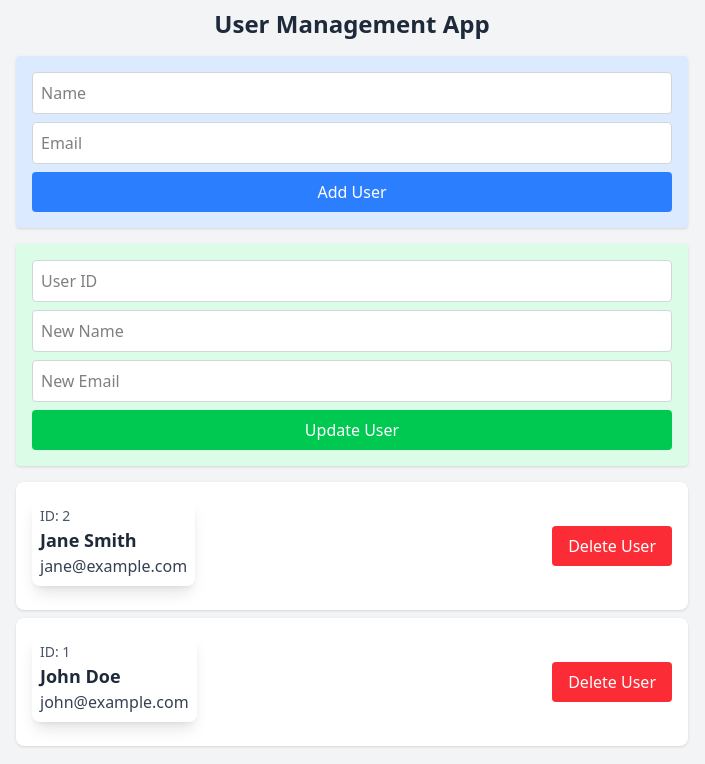
Scenario: Home Component › Updating Users › should update an existing user
expect the text "John Doe" is shown: met, box [40,664,120,688]
Type "1" into the field with placeholder "User ID".
click(352, 281); type("1")  # box [32,260,672,302]
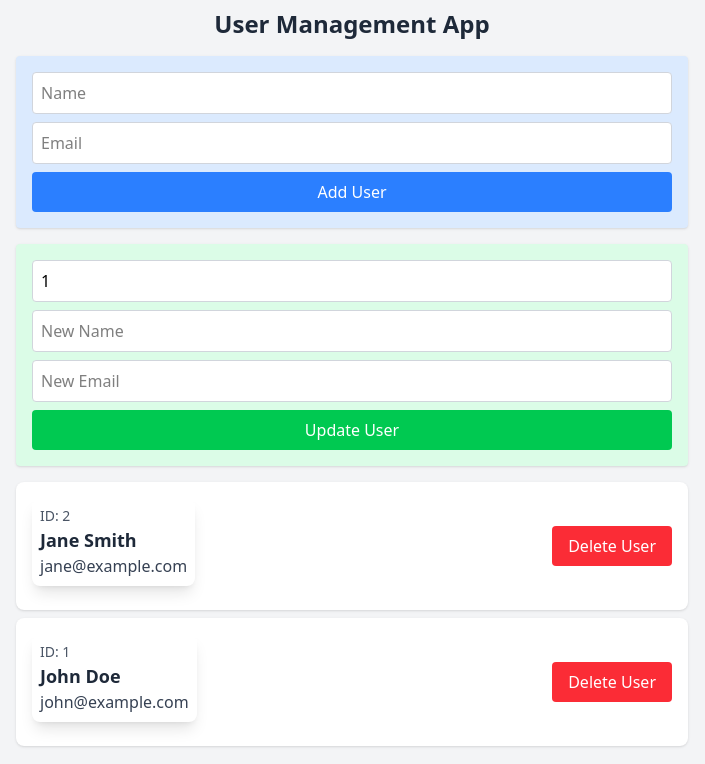
Type "Updated Name" into the field with placeholder "New Name".
click(352, 331); type("Updated Name")  # box [32,310,672,352]
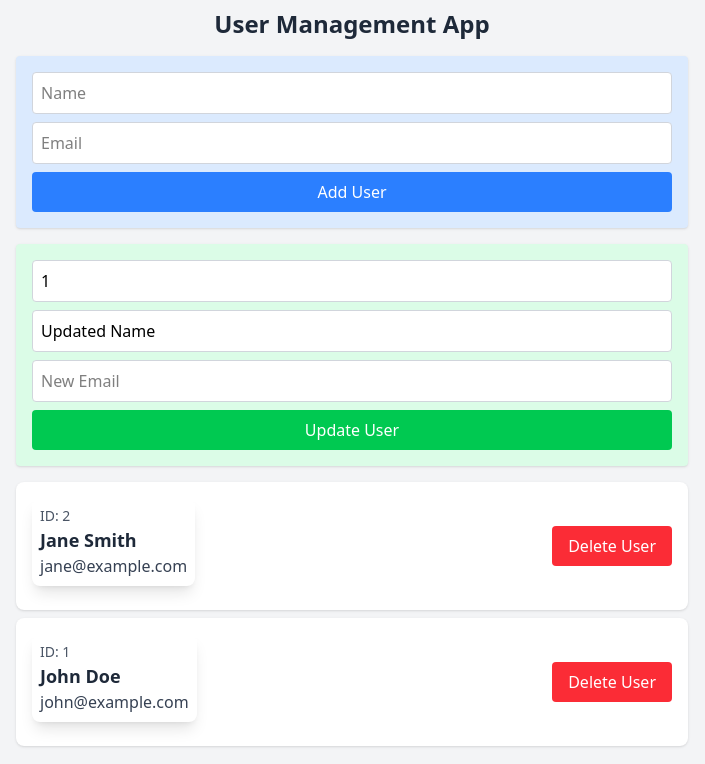
Type "updated@example.com" into the field with placeholder "New Email".
click(352, 381); type("updated@example.com")  # box [32,360,672,402]
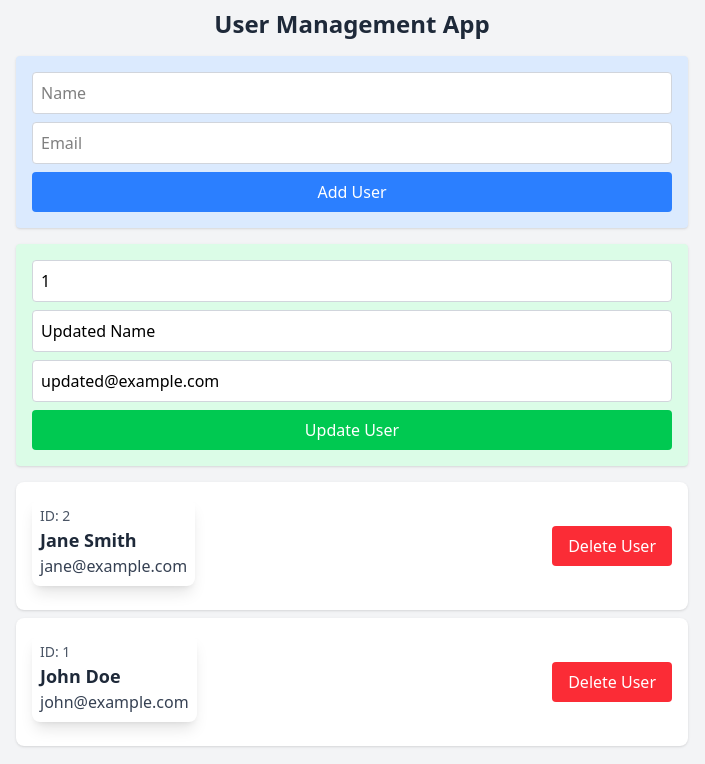
Click the button "Update User".
click(352, 430)  # box [32,410,672,450]
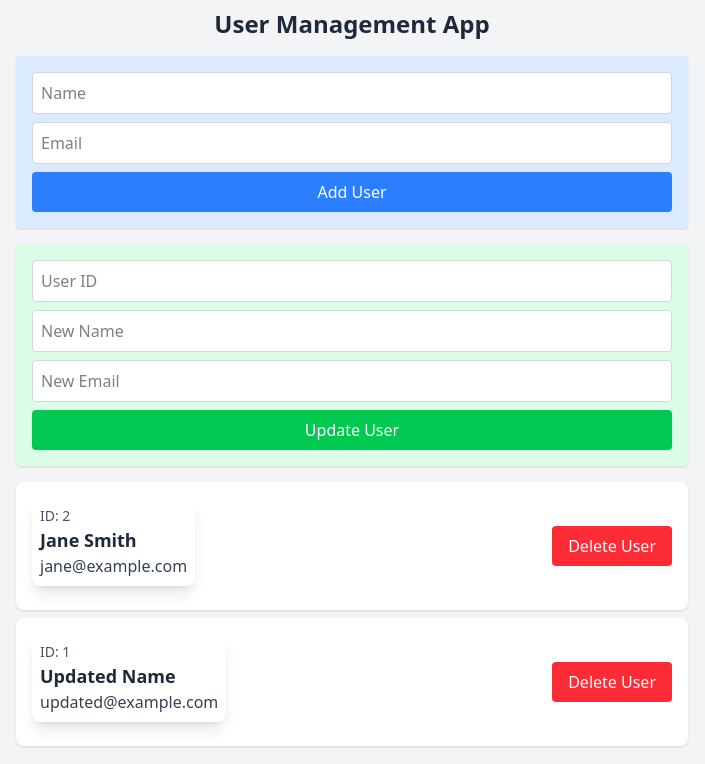
expect the text "Updated Name" is shown: met, box [40,664,176,688]
expect the text "updated@example.com" is shown: met, box [40,690,218,714]
expect the field with placeholder "User ID" is empty: met, box [32,260,672,302]
